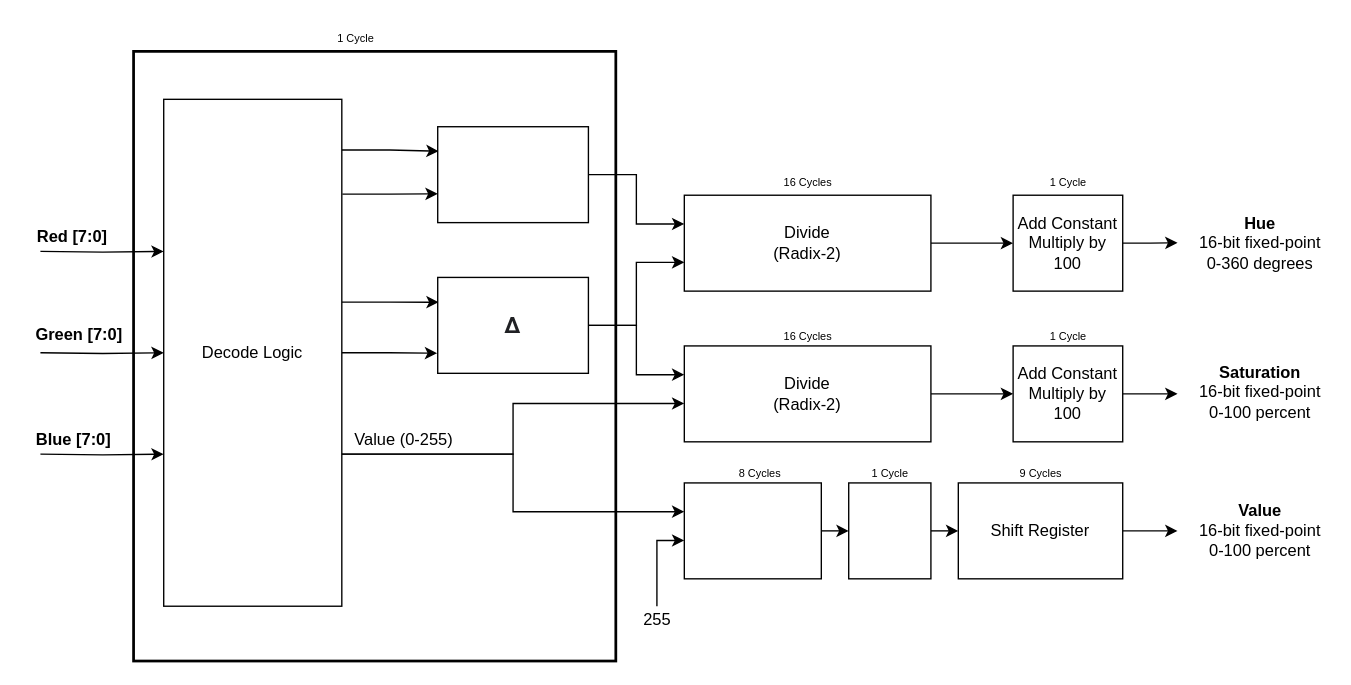
The diagram is 1351 pixels wide and 685 high, and some of its shapes have lost their labels. The centre of each missing label's shape, as x and y in pixels:
"Divide (LUTMult)" goes at point 752,530.
"G-R B-R R-G" goes at point 512,174.
"Multiply by 100" goes at point 889,530.
